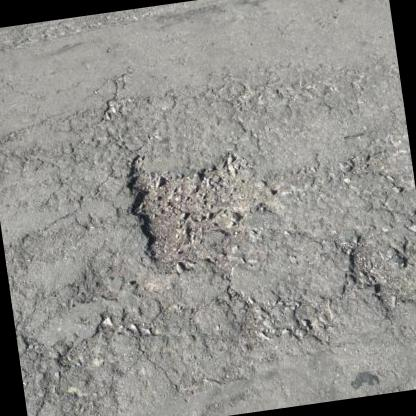pothole: (115, 136, 272, 279), (340, 232, 402, 312)
